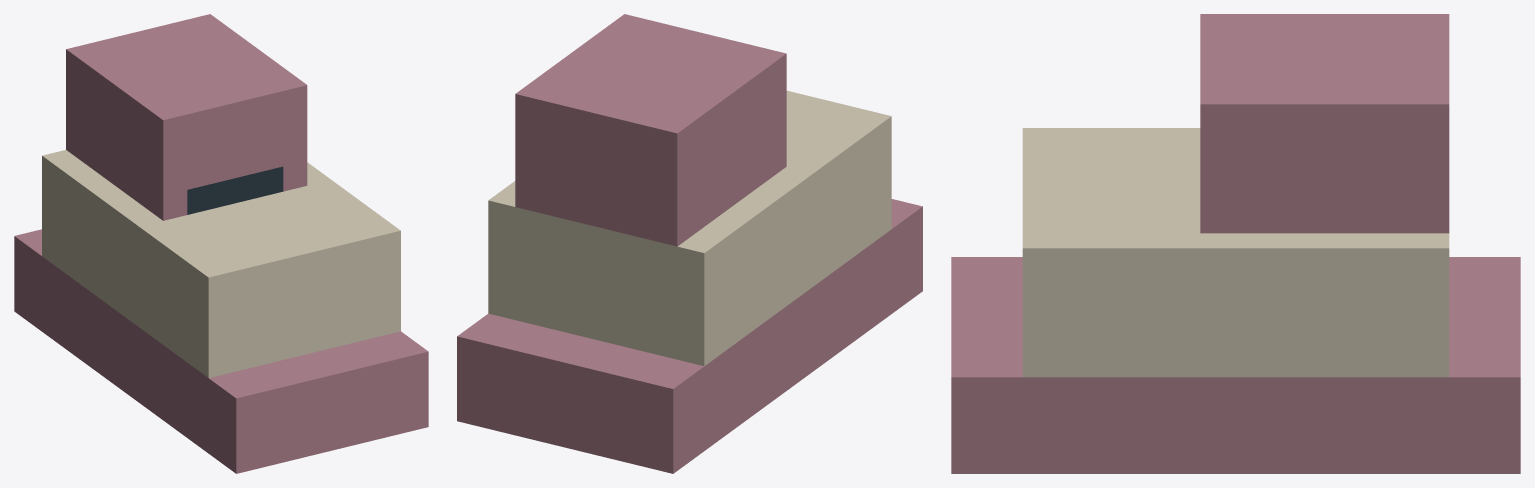
Rendered from fashion-07.glb.
The picture shows the model from 3 angles, left to right: view 1: azimuth 30°, elevation 25°; view 2: azimuth 150°, elevation 25°; view 3: azimuth 270°, elevation 25°; orthographic projection. The views are drawn at different scales.
Visible parts, largest first — view 1: Designer shoe; view 2: Designer shoe; view 3: Designer shoe.
Part boxes in pixels (box(x1,y1,x2,y2)): Designer shoe: box(14, 14, 428, 473); Designer shoe: box(457, 14, 922, 473); Designer shoe: box(951, 14, 1520, 473).
Size of the model in its own units: 0.64 by 0.88 by 1.28.
